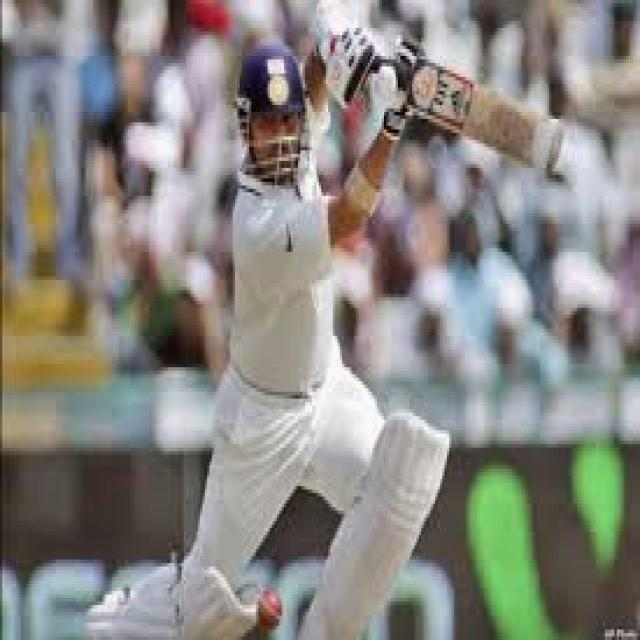bat: (395, 69, 571, 180)
toe: (544, 124, 565, 173)
